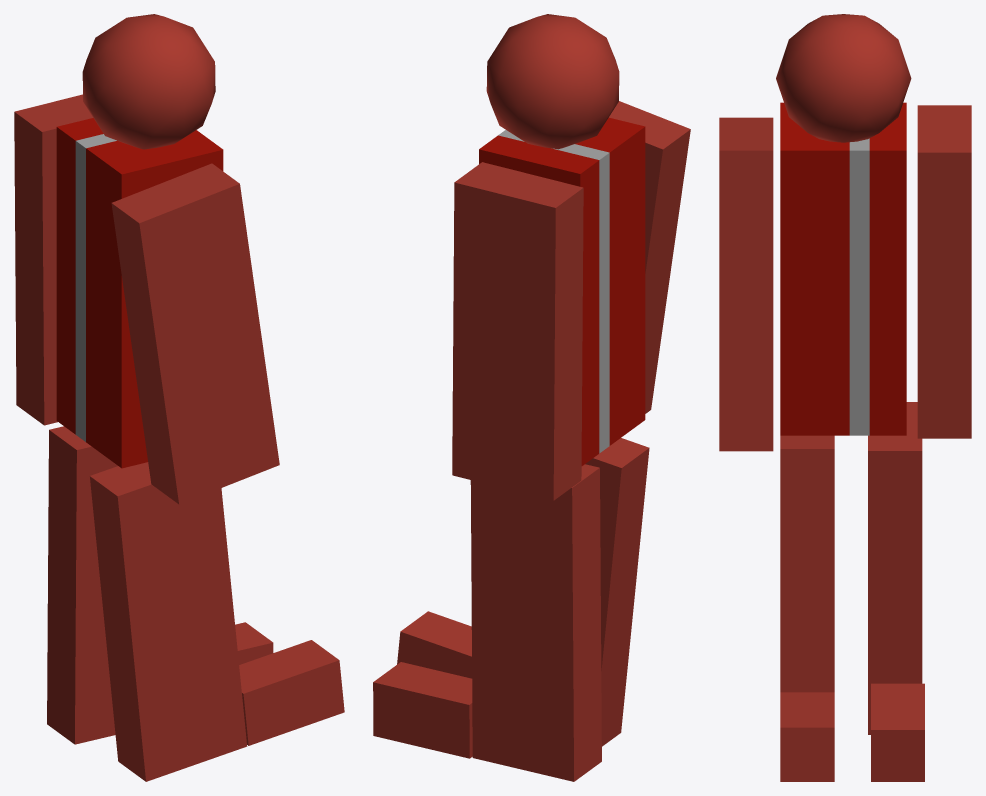
Rendered from player_000010.obj.
3 renders of one model, left to right at view 1: azimuth 30°, elevation 25°; view 2: azimuth 150°, elevation 25°; view 3: azimuth 270°, elevation 25°, orthographic. The views are drawn at different scales.
Parts seen in each view (by area): view 1: Cube.013, Cube.010, Cube.007, Cube.008, Icosphere.001, Cube.012, Cube.011, Cube.009; view 2: Cube.012, Cube.008, Cube.007, Icosphere.001, Cube.010, Cube.013, Cube.009, Cube.011; view 3: Cube.007, Cube.013, Cube.012, Cube.008, Cube.010, Icosphere.001, Cube.009, Cube.011.
Part boxes in pixels (bbox=[...]): Cube.013: bbox=[111, 163, 279, 504]; Cube.010: bbox=[90, 462, 247, 781]; Cube.007: bbox=[56, 118, 223, 468]; Cube.008: bbox=[47, 426, 117, 744]; Icosphere.001: bbox=[82, 14, 215, 149]; Cube.012: bbox=[14, 94, 93, 425]; Cube.011: bbox=[239, 640, 344, 745]; Cube.009: bbox=[235, 622, 273, 664]; Cube.012: bbox=[452, 162, 583, 500]; Cube.008: bbox=[470, 464, 601, 781]; Cube.007: bbox=[479, 117, 645, 465]; Icosphere.001: bbox=[486, 14, 619, 149]; Cube.010: bbox=[585, 438, 649, 746]; Cube.013: bbox=[609, 101, 690, 413]; Cube.009: bbox=[373, 662, 472, 758]; Cube.011: bbox=[397, 611, 471, 678]; Cube.007: bbox=[780, 102, 906, 435]; Cube.013: bbox=[719, 117, 773, 451]; Cube.012: bbox=[917, 105, 971, 438]; Cube.008: bbox=[868, 402, 922, 734]; Cube.010: bbox=[780, 435, 834, 692]; Icosphere.001: bbox=[776, 14, 911, 142]; Cube.009: bbox=[871, 683, 924, 781]; Cube.011: bbox=[780, 692, 834, 781].
Bounding box in the file's own units: 0.9597 × 2.82 × 0.9137.
